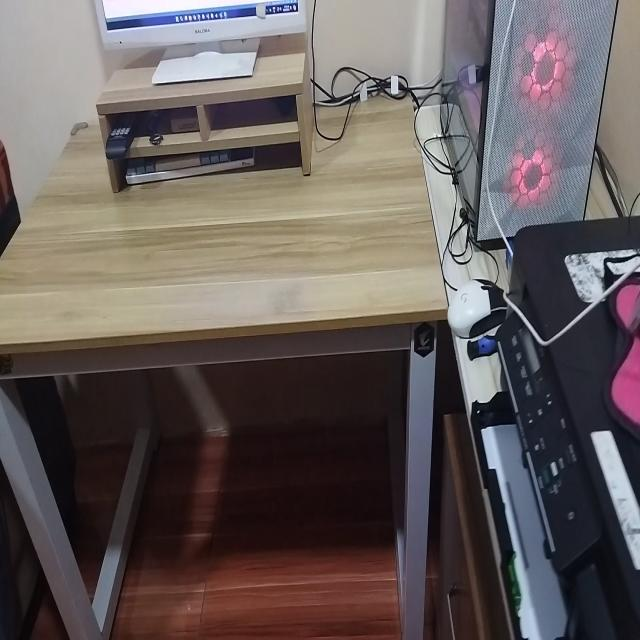table: (0, 86, 446, 640)
